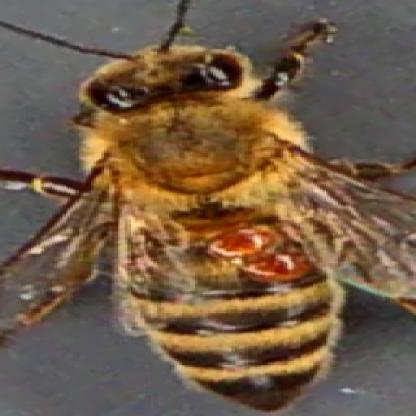bee: (76, 37, 350, 406)
vaoora: (208, 224, 267, 250), (248, 256, 313, 278)
